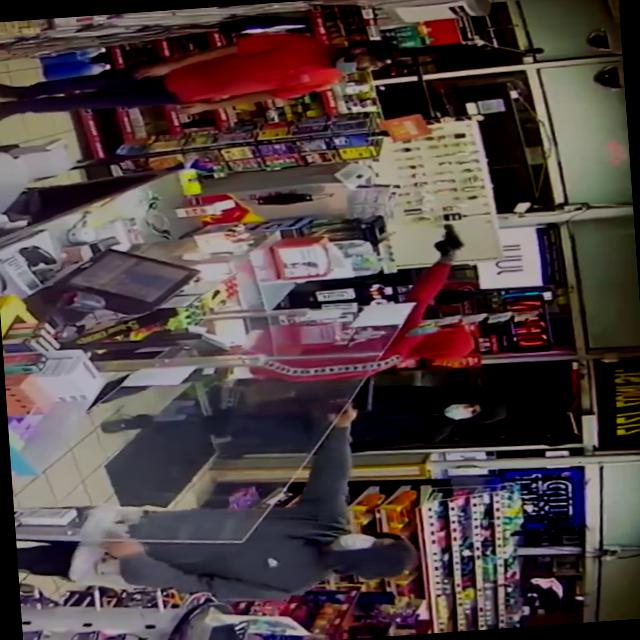handgun: (324, 370, 387, 422), (421, 221, 479, 255)
